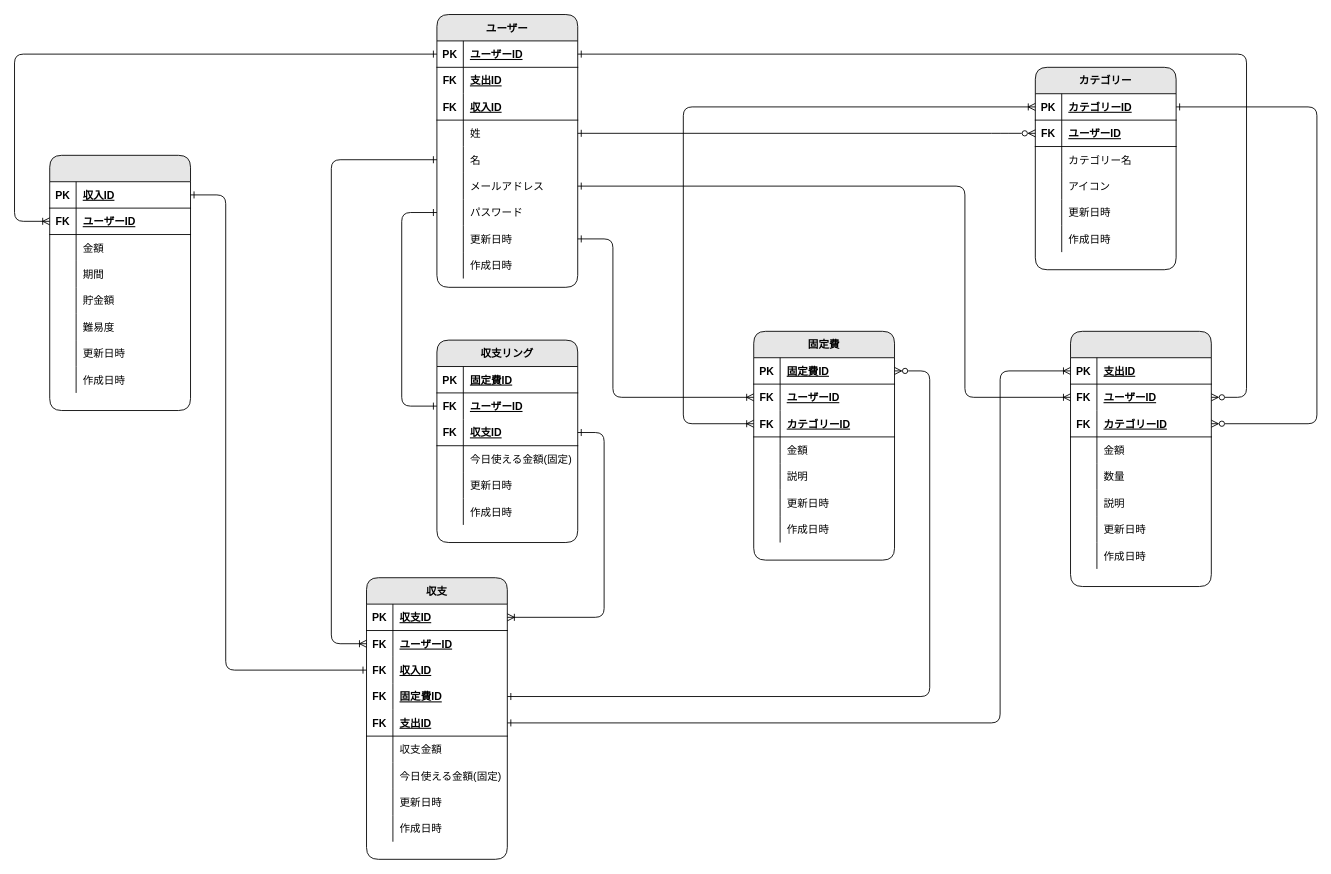
The diagram is 1331 pixels wide and 874 high, and some of its shapes have lost their labels. Each missing label, with the box of its shape:
収入: (49, 154, 191, 411)
支出: (1070, 330, 1211, 587)
